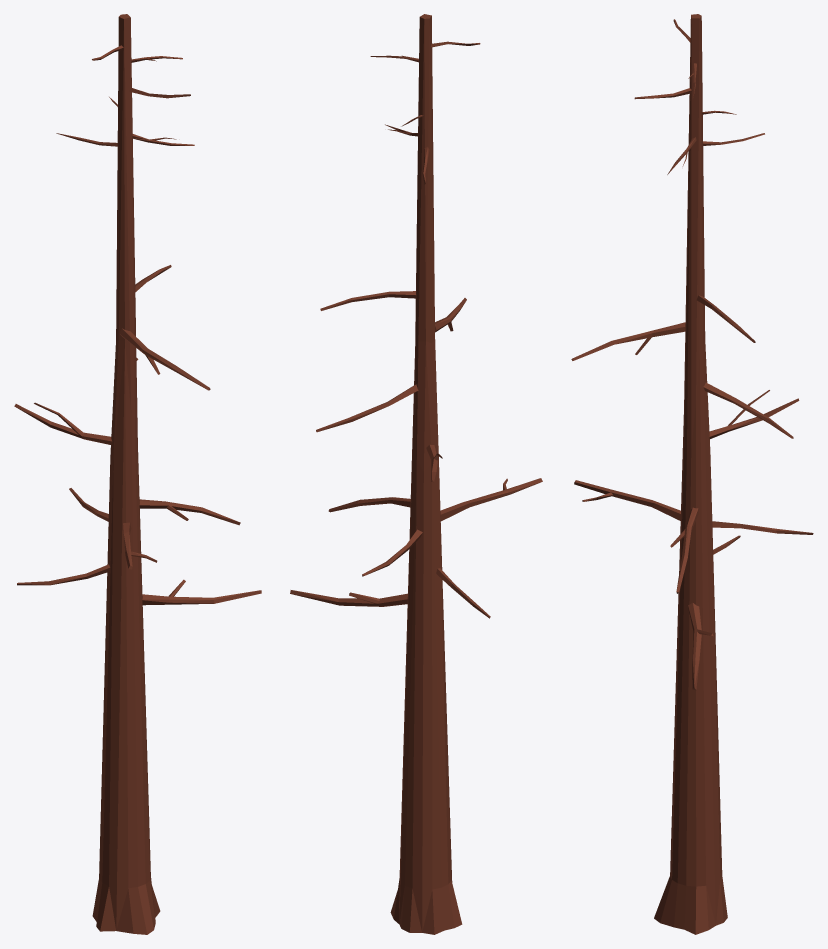
Rendered from pine_dead_type_2_LOD1.fbx.
3 renders of one model, left to right at view 1: azimuth 30°, elevation 25°; view 2: azimuth 150°, elevation 25°; view 3: azimuth 270°, elevation 25°, orthographic.
Parts seen in each view (by area): view 1: pine_trunk.007; view 2: pine_trunk.007; view 3: pine_trunk.007.
Part boxes in pixels (left/top/right/bottom): pine_trunk.007: left=14, top=14, right=261, bottom=934; pine_trunk.007: left=290, top=14, right=542, bottom=934; pine_trunk.007: left=571, top=14, right=813, bottom=934.
Bounding box in the file's own units: 612 × 2381 × 580.
